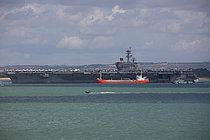MIL_Ship: (6, 45, 200, 85)
